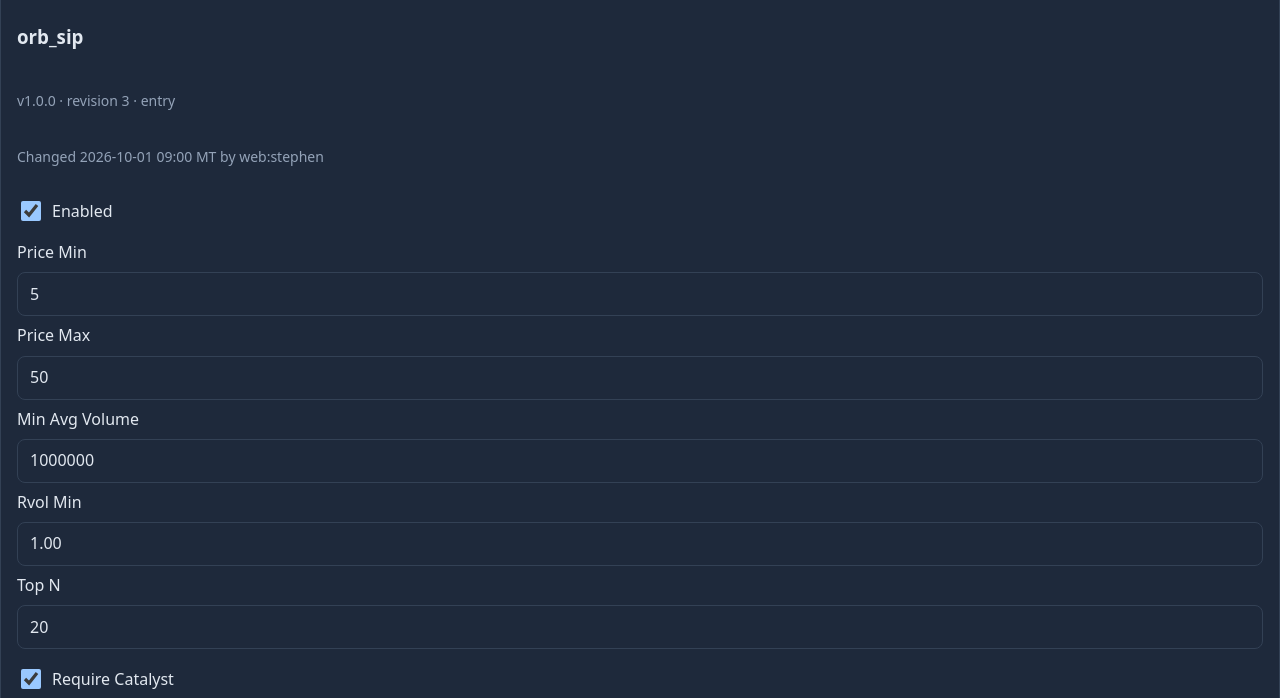
Test case: StrategyForms (acceptance test 4) › an invalid param disables Save, and a server 422 shows under the param
Step 1. Replace the text in the number field labelled "Top N" with "0" → (640, 627), box [17,605,1263,649]
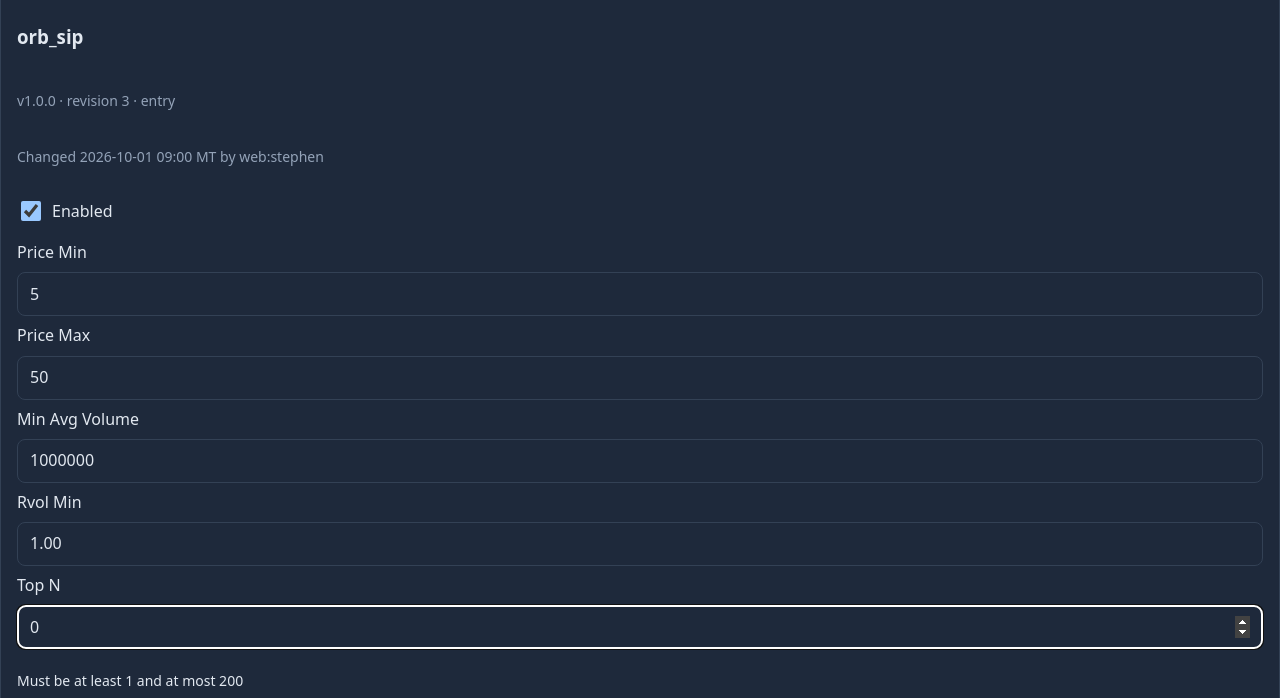
Expected: the text "Must be at least 1 and at most 200" is shown, [17,671,243,690]
Step 2. Replace the text in the number field labelled "Top N" with "5" → (640, 627), box [17,605,1263,649]
(page scrolled)
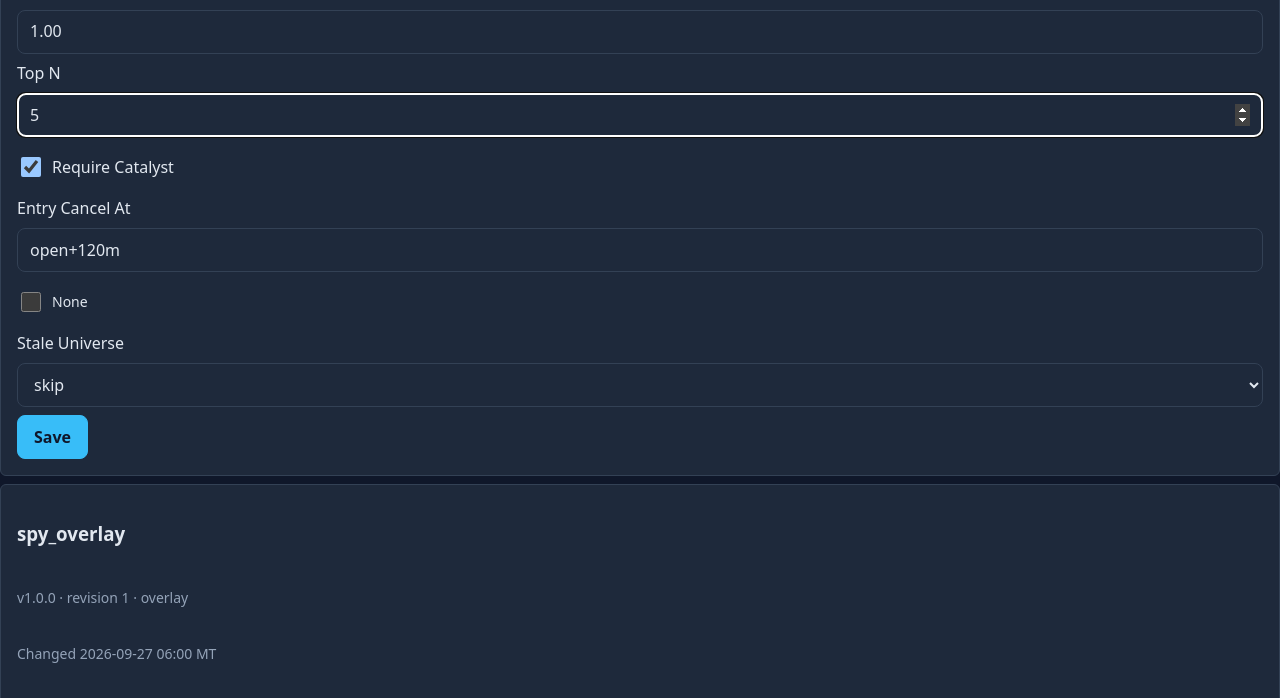
Step 3. Click the button "Save" → (52, 438), box [17,416,88,460]
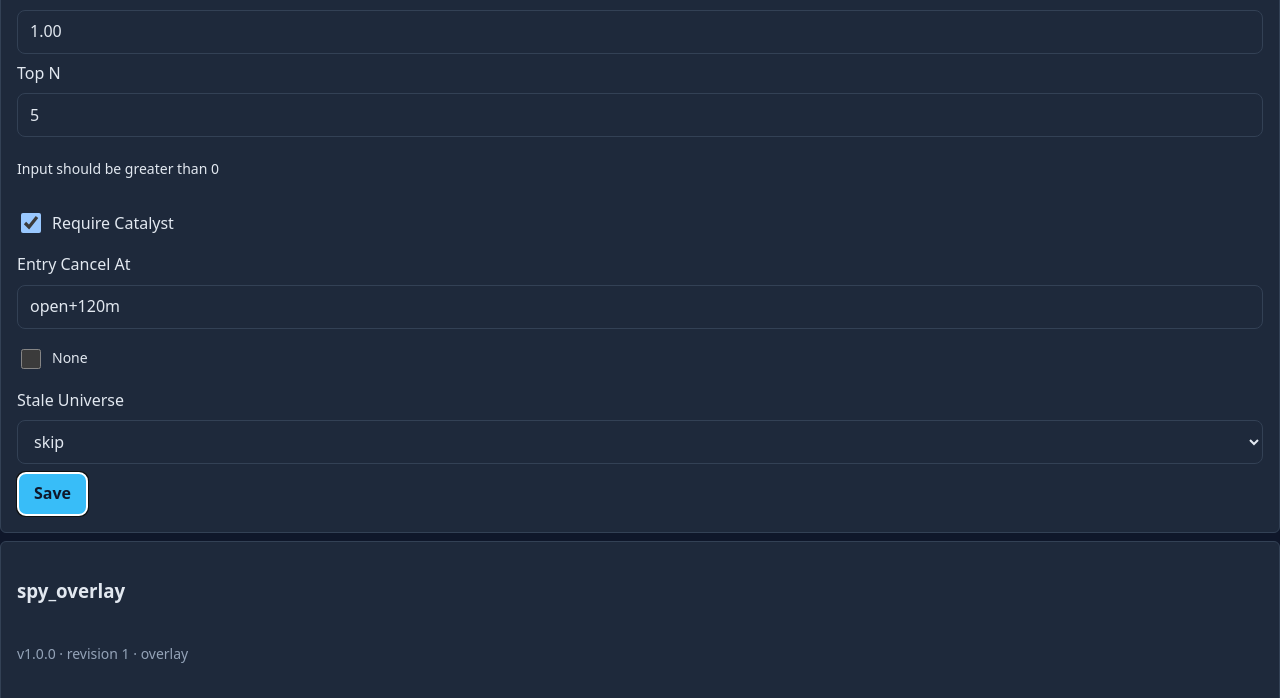
Expected: the text "Input should be greater than 0" is shown, [17,159,219,178]
